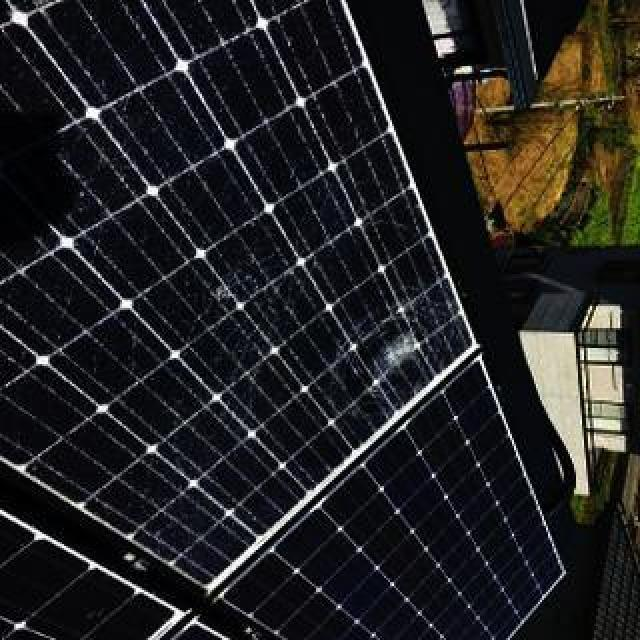cracked: (2, 2, 466, 574)
